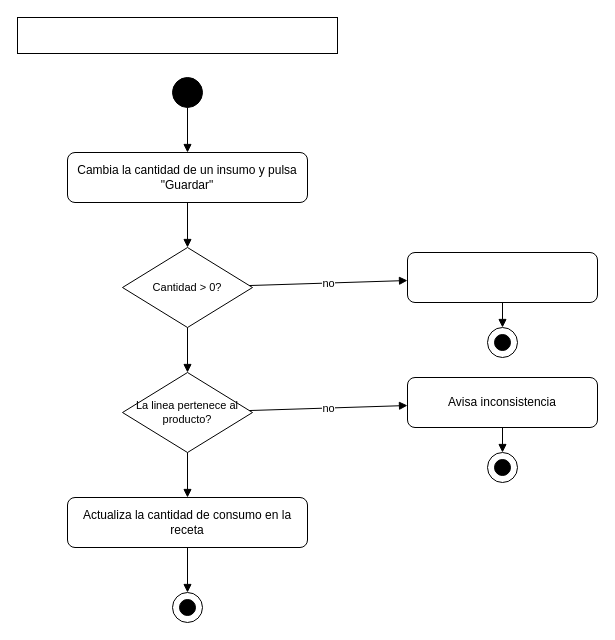
Image size: 615x640. Some labels were removed from this diagram. The centre of each missing label's shape, as x and y in pixels:
"Diagrama de actividad - Editar Receta (CU-09)" belongs at pixel 177 35.
"Muestra error" belongs at pixel 502 277.
